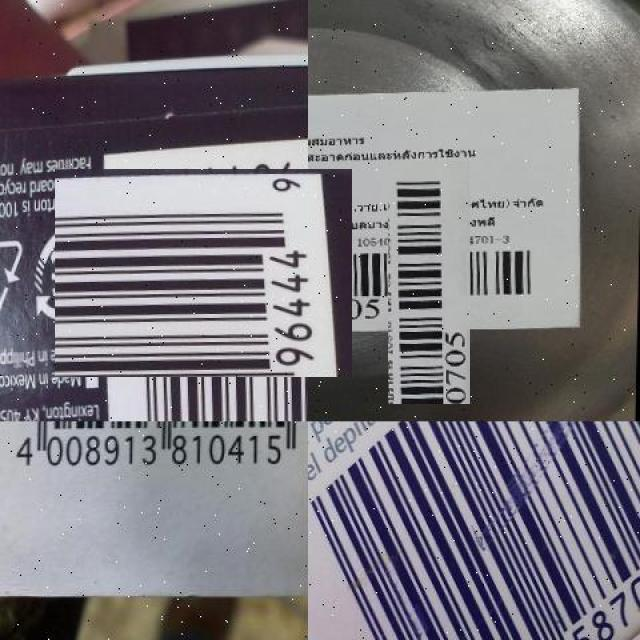Barcode: (308, 421, 640, 640), (77, 146, 330, 399), (348, 201, 511, 364), (4, 421, 308, 495)
